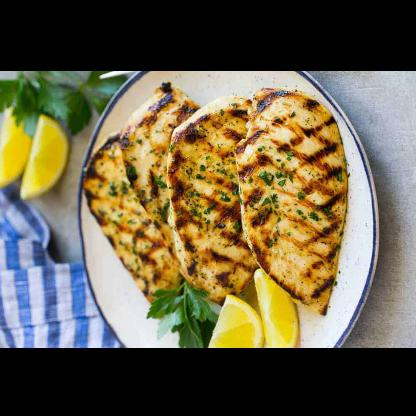grilled chicken breast: (235, 86, 347, 316), (170, 96, 254, 298), (84, 132, 178, 304), (124, 81, 202, 278)
